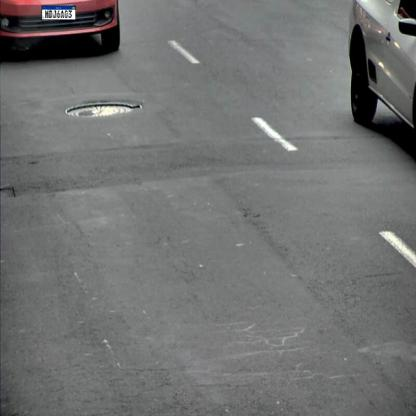PlacaM: (42, 6, 76, 20)
